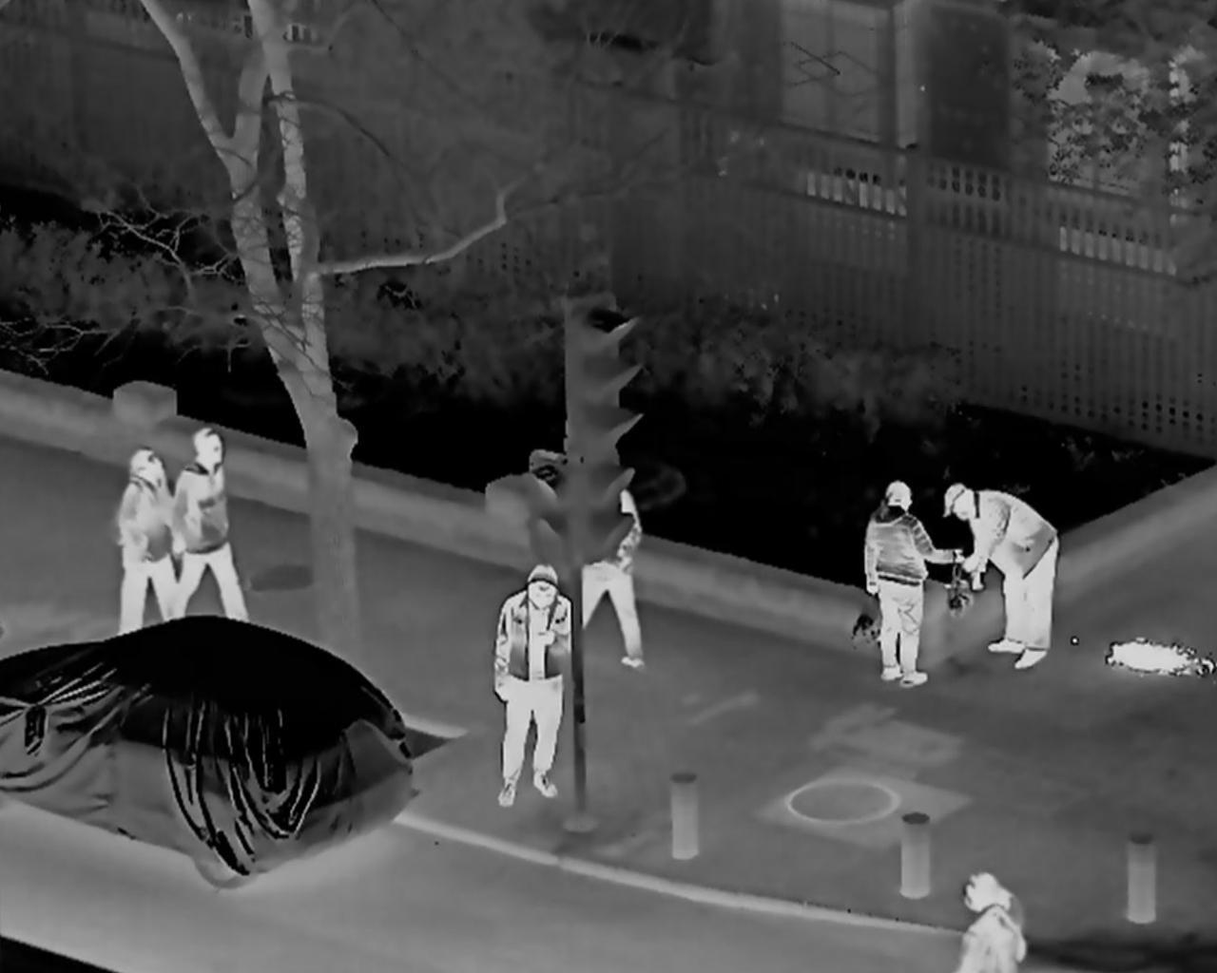person: (940, 484, 1060, 669), (859, 481, 964, 689), (492, 565, 576, 808), (561, 447, 651, 671), (174, 431, 251, 631), (115, 449, 184, 635), (951, 868, 1019, 973)
